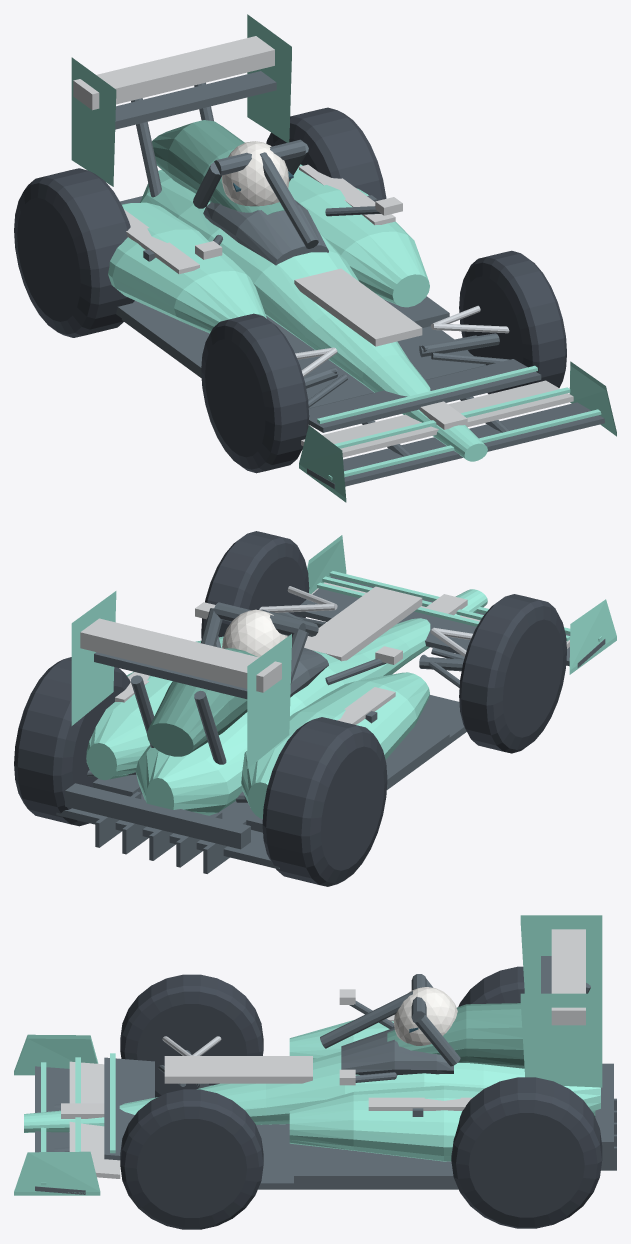
File: mercedes_high.glb
3 renders of one model, top to bottom at view 1: azimuth 30°, elevation 25°; view 2: azimuth 150°, elevation 25°; view 3: azimuth 270°, elevation 25°, orthographic. The views are drawn at different scales.
Parts seen in each view (by area): view 1: BODY_paint, BODY_carbon, BODY_accent, RearLeftWheel_rubber, FrontLeftWheel_rubber, FrontRightWheel_rubber, RearRightWheel_rubber, BODY_paint_dark, BODY_helmet, BODY_metal; view 2: BODY_paint, BODY_carbon, RearLeftWheel_rubber, FrontLeftWheel_rubber, BODY_accent, RearRightWheel_rubber, FrontRightWheel_rubber, BODY_paint_dark, BODY_helmet, BODY_metal; view 3: BODY_paint, BODY_carbon, RearRightWheel_rubber, FrontRightWheel_rubber, BODY_accent, FrontLeftWheel_rubber, BODY_paint_dark, BODY_helmet, RearLeftWheel_rubber.
Part boxes in pixels (x1,y1,x2,y2): BODY_paint: [71, 14, 616, 502]; BODY_carbon: [115, 71, 604, 488]; BODY_accent: [73, 36, 573, 457]; RearLeftWheel_rubber: [14, 168, 134, 337]; FrontLeftWheel_rubber: [201, 313, 309, 473]; FrontRightWheel_rubber: [459, 250, 566, 394]; RearRightWheel_rubber: [266, 107, 386, 200]; BODY_paint_dark: [152, 120, 284, 214]; BODY_helmet: [221, 141, 289, 206]; BODY_metal: [295, 305, 509, 376]; BODY_paint: [71, 535, 616, 818]; BODY_carbon: [56, 576, 605, 873]; RearLeftWheel_rubber: [262, 717, 387, 886]; FrontLeftWheel_rubber: [459, 594, 566, 753]; BODY_accent: [80, 582, 569, 724]; RearRightWheel_rubber: [14, 657, 130, 826]; FrontRightWheel_rubber: [201, 531, 309, 638]; BODY_paint_dark: [147, 648, 257, 756]; BODY_helmet: [222, 609, 287, 657]; BODY_metal: [259, 586, 472, 657]; BODY_paint: [14, 915, 602, 1195]; BODY_carbon: [35, 956, 616, 1194]; RearRightWheel_rubber: [451, 1077, 602, 1228]; FrontRightWheel_rubber: [120, 1089, 263, 1229]; BODY_accent: [61, 929, 585, 1178]; FrontLeftWheel_rubber: [120, 974, 263, 1097]; BODY_paint_dark: [387, 1003, 524, 1068]; BODY_helmet: [393, 987, 457, 1045]; RearLeftWheel_rubber: [458, 966, 524, 1006].
Bounding box in the file's own units: 2.59 × 1.9 × 4.88.
